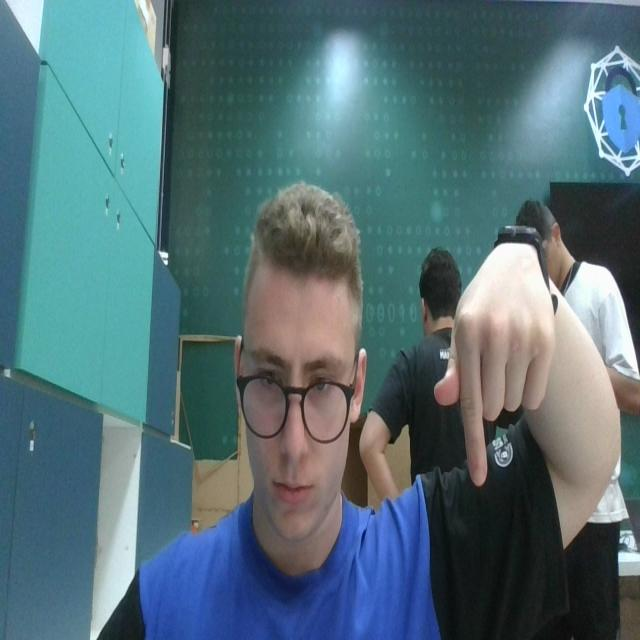Q: (434, 243, 552, 498)
